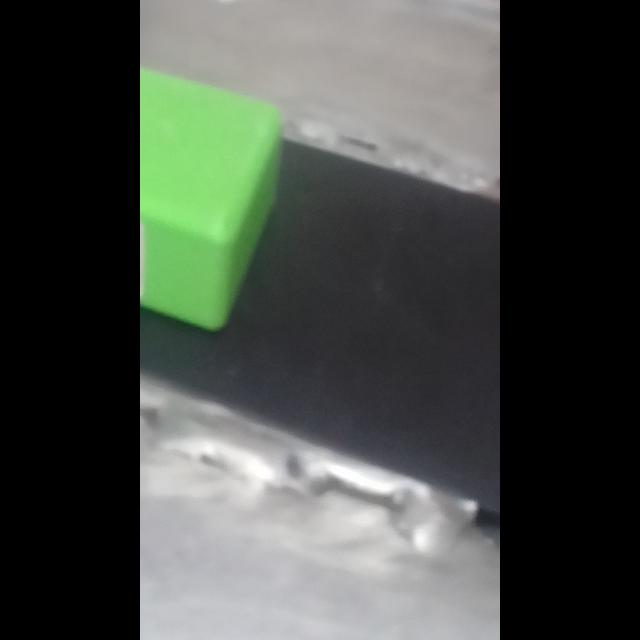greenBox: (140, 33, 300, 341)
